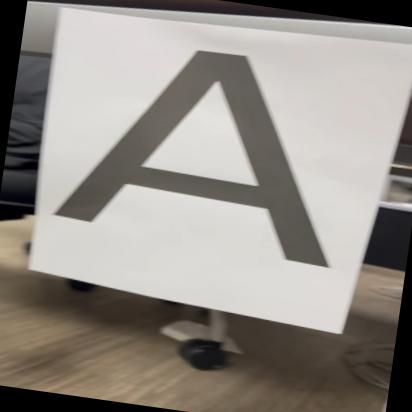seat: (43, 21, 366, 287)
